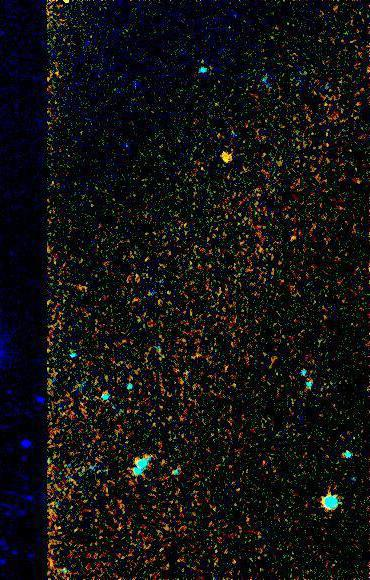star: (50, 0, 80, 20)
